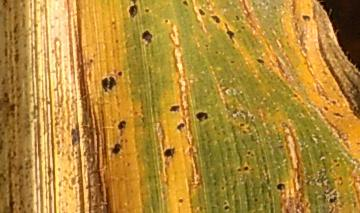tarspot: (222, 21, 236, 44), (100, 74, 116, 93), (126, 1, 141, 19), (140, 29, 153, 46), (162, 146, 176, 158), (70, 128, 78, 146), (110, 142, 121, 155), (330, 110, 344, 120), (196, 111, 208, 122), (209, 14, 221, 24), (222, 198, 230, 212), (301, 13, 311, 23), (2, 91, 10, 103), (276, 182, 286, 191), (169, 104, 179, 113), (117, 120, 126, 130), (197, 7, 206, 17), (332, 158, 341, 168), (321, 104, 330, 113), (328, 196, 338, 204), (181, 1, 190, 9), (8, 103, 16, 112), (255, 58, 265, 65), (177, 123, 185, 131), (116, 69, 124, 77), (240, 127, 248, 135), (246, 150, 255, 157), (234, 14, 241, 23), (143, 8, 151, 15), (330, 98, 337, 106), (243, 164, 249, 173), (177, 198, 185, 204), (88, 57, 94, 65), (1, 1, 9, 7), (236, 167, 243, 173), (163, 18, 169, 25), (238, 122, 245, 128), (203, 42, 208, 50), (253, 197, 259, 203), (236, 28, 241, 35), (113, 38, 119, 43), (229, 59, 235, 64), (220, 185, 225, 191), (355, 141, 360, 147), (214, 50, 219, 55), (240, 24, 244, 30)
